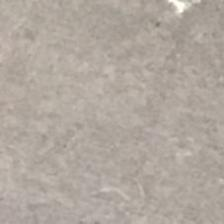Non_Crack: (17, 31, 188, 200)
